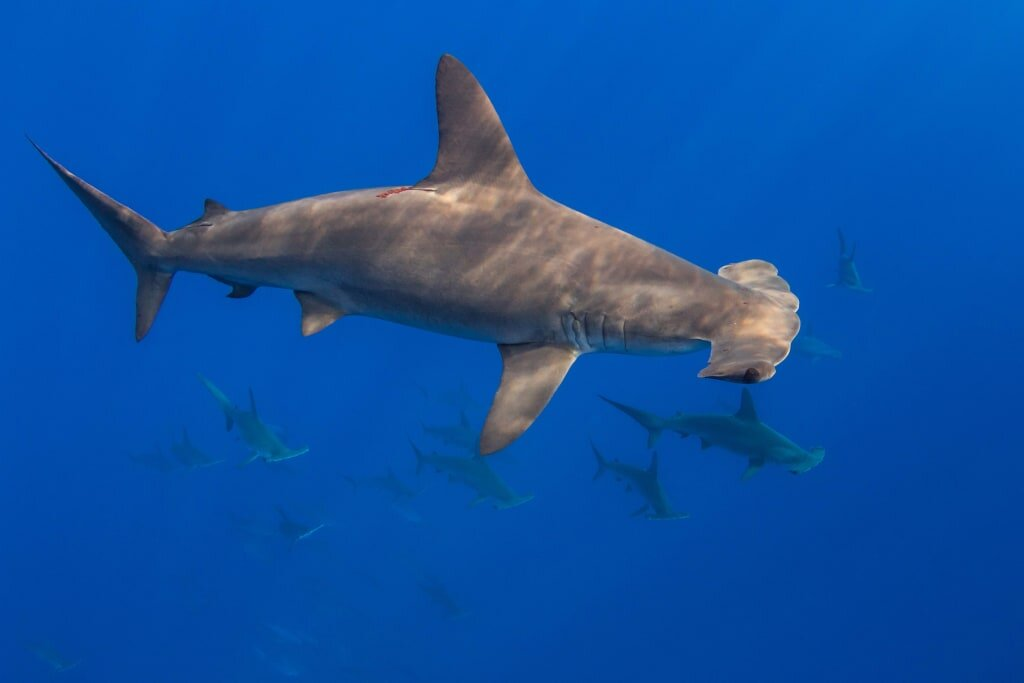Hammer: (24, 2, 530, 335)
